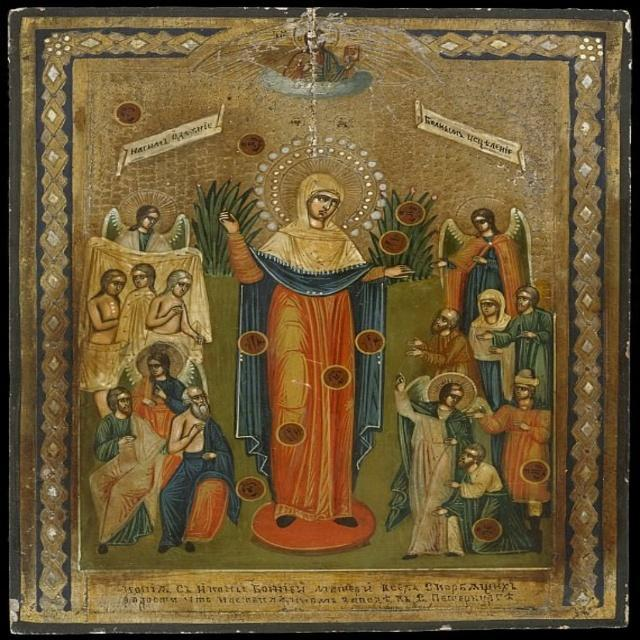angel: (400, 376, 472, 569), (440, 198, 536, 286), (120, 344, 203, 433), (104, 188, 196, 248)
aura: (254, 137, 386, 241), (119, 189, 178, 234), (455, 198, 510, 236), (426, 372, 478, 411), (135, 342, 184, 381), (293, 18, 341, 53)
book: (344, 42, 364, 64)
christ: (291, 19, 345, 84)
christ_face: (306, 29, 324, 50)
orb: (395, 200, 427, 227), (234, 476, 266, 503), (472, 517, 503, 544), (355, 329, 385, 356), (381, 229, 411, 255), (237, 331, 268, 356), (275, 421, 306, 446), (113, 101, 142, 127), (237, 132, 266, 158), (520, 459, 550, 484), (321, 365, 351, 389)
person: (164, 386, 234, 555), (479, 369, 554, 511), (450, 437, 529, 559), (96, 389, 151, 543), (78, 265, 126, 387), (406, 302, 481, 375), (472, 285, 516, 399), (152, 262, 207, 344), (508, 285, 557, 373), (119, 259, 154, 350)
saint: (261, 169, 371, 474)
wing: (508, 204, 542, 285), (438, 221, 472, 256), (99, 206, 132, 239), (178, 358, 210, 389), (168, 214, 191, 251), (406, 372, 429, 401), (116, 361, 136, 388), (467, 394, 492, 415)
